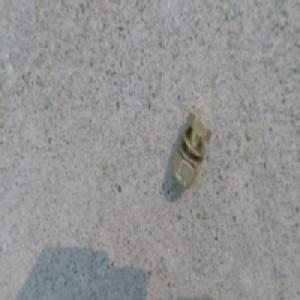BoltNutSet: (167, 116, 207, 190)
